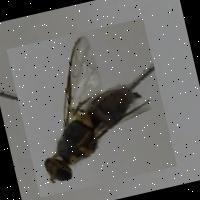Oriental-fruit-fly: (5, 16, 176, 196)
